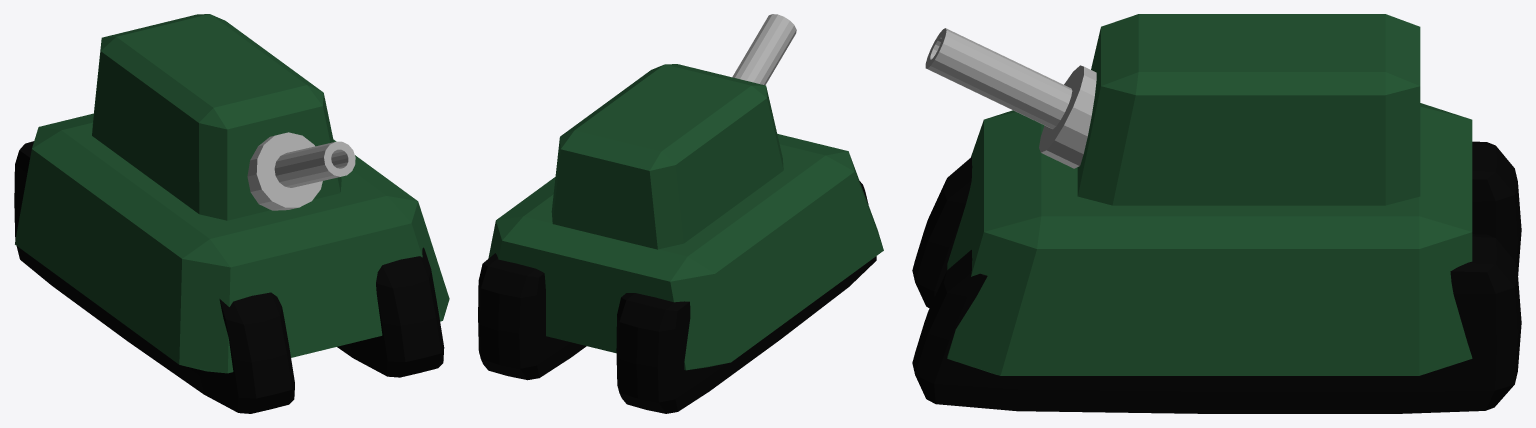
The model's file is Tank.fbx.
3 renders of one model, left to right at view 1: azimuth 30°, elevation 25°; view 2: azimuth 150°, elevation 25°; view 3: azimuth 270°, elevation 25°, orthographic. The views are drawn at different scales.
Parts seen in each view (by area): view 1: Cube, Cube.001, 立方体.001, 立方体, 柱体.001, 柱体; view 2: Cube, Cube.001, 立方体.001, 立方体, 柱体; view 3: Cube, Cube.001, 立方体, 立方体.001, 柱体, 柱体.001.
Boxes of the visible parts, left/top/right/bottom form: Cube: left=15, top=113, right=449, bottom=373; Cube.001: left=92, top=14, right=341, bottom=220; 立方体.001: left=14, top=141, right=294, bottom=413; 立方体: left=337, top=247, right=444, bottom=377; 柱体.001: left=247, top=132, right=322, bottom=210; 柱体: left=274, top=141, right=355, bottom=187; Cube: left=488, top=134, right=883, bottom=370; Cube.001: left=551, top=64, right=783, bottom=249; 立方体.001: left=616, top=180, right=876, bottom=413; 立方体: left=478, top=253, right=586, bottom=380; 柱体: left=732, top=14, right=796, bottom=85; Cube: left=947, top=103, right=1472, bottom=375; Cube.001: left=1077, top=14, right=1420, bottom=205; 立方体: left=912, top=234, right=1521, bottom=413; 立方体.001: left=912, top=141, right=1521, bottom=308; 柱体: left=925, top=28, right=1072, bottom=128; 柱体.001: left=1039, top=65, right=1096, bottom=168.
Size of the model in its own units: 241 by 217 by 370.
